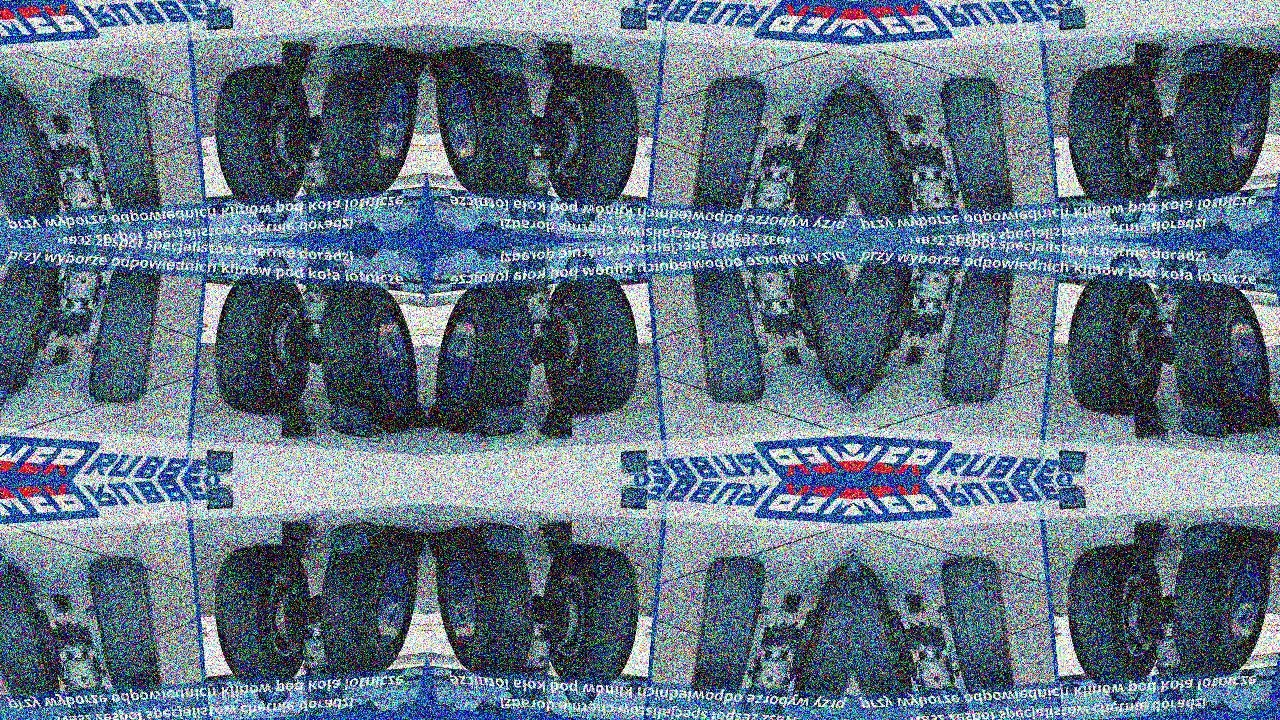chock: (327, 40, 376, 77), (478, 40, 527, 77), (1180, 40, 1229, 77), (327, 403, 376, 440), (478, 403, 527, 440), (1180, 403, 1229, 440), (327, 520, 376, 557), (478, 520, 527, 557), (1180, 520, 1229, 557), (281, 39, 316, 82), (537, 39, 572, 82), (1134, 39, 1169, 82), (281, 398, 316, 441), (537, 398, 572, 441), (1134, 398, 1169, 441), (281, 519, 316, 562), (537, 519, 572, 562), (1134, 519, 1169, 562), (205, 5, 233, 30), (1058, 5, 1086, 30), (205, 450, 233, 475), (1058, 450, 1086, 475), (205, 485, 233, 510), (1058, 485, 1086, 510), (621, 5, 648, 30), (621, 450, 648, 475), (621, 485, 648, 510), (405, 50, 427, 79), (427, 50, 449, 79), (1258, 50, 1280, 79), (405, 401, 427, 430), (427, 401, 449, 430), (1258, 401, 1280, 430), (405, 530, 427, 559), (427, 530, 449, 559), (1258, 530, 1280, 559), (904, 113, 927, 134), (904, 346, 927, 367), (904, 593, 927, 614), (51, 113, 73, 134), (780, 113, 802, 134), (51, 346, 73, 367), (780, 346, 802, 367), (51, 593, 73, 614), (780, 593, 802, 614)
wheel: (315, 45, 427, 197), (315, 283, 427, 435), (315, 525, 427, 677), (427, 45, 538, 197), (1169, 45, 1280, 197), (427, 283, 538, 435), (1169, 283, 1280, 435), (427, 525, 538, 677), (1169, 525, 1280, 677), (210, 63, 312, 206), (541, 63, 643, 206), (1063, 63, 1165, 206), (210, 274, 312, 417), (541, 274, 643, 417), (1063, 274, 1165, 417), (210, 543, 312, 686), (541, 543, 643, 686), (1063, 543, 1165, 686), (687, 75, 773, 222), (687, 258, 773, 405), (687, 555, 773, 702), (81, 75, 166, 222), (934, 75, 1019, 222), (81, 258, 166, 405), (934, 258, 1019, 405), (81, 555, 166, 702), (934, 555, 1019, 702), (0, 84, 67, 230), (786, 84, 853, 230), (853, 84, 920, 230), (0, 250, 67, 396), (786, 250, 853, 396), (853, 250, 920, 396), (0, 564, 67, 710), (786, 564, 853, 710), (853, 564, 920, 710), (256, 200, 291, 227), (562, 200, 597, 227), (1109, 200, 1144, 227), (256, 253, 291, 280), (562, 253, 597, 280), (1109, 253, 1144, 280), (256, 680, 291, 707), (562, 680, 597, 707), (1109, 680, 1144, 707)
